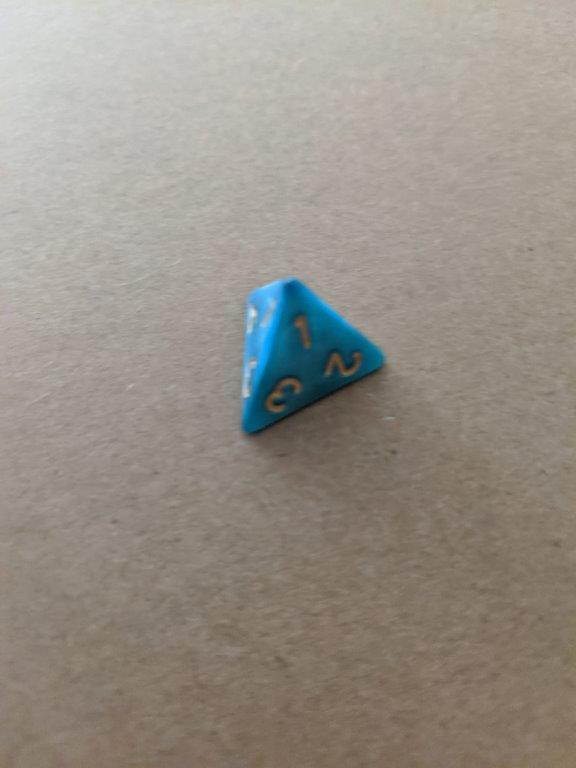d4-1: (232, 274, 389, 440)
